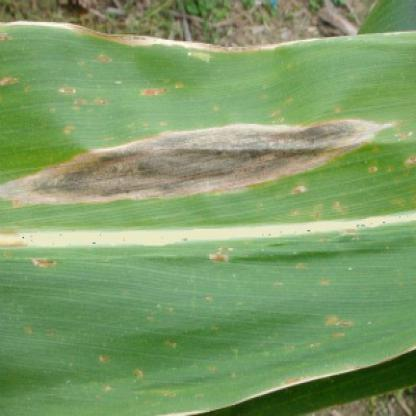Corn leaf blight: (1, 19, 415, 391)
